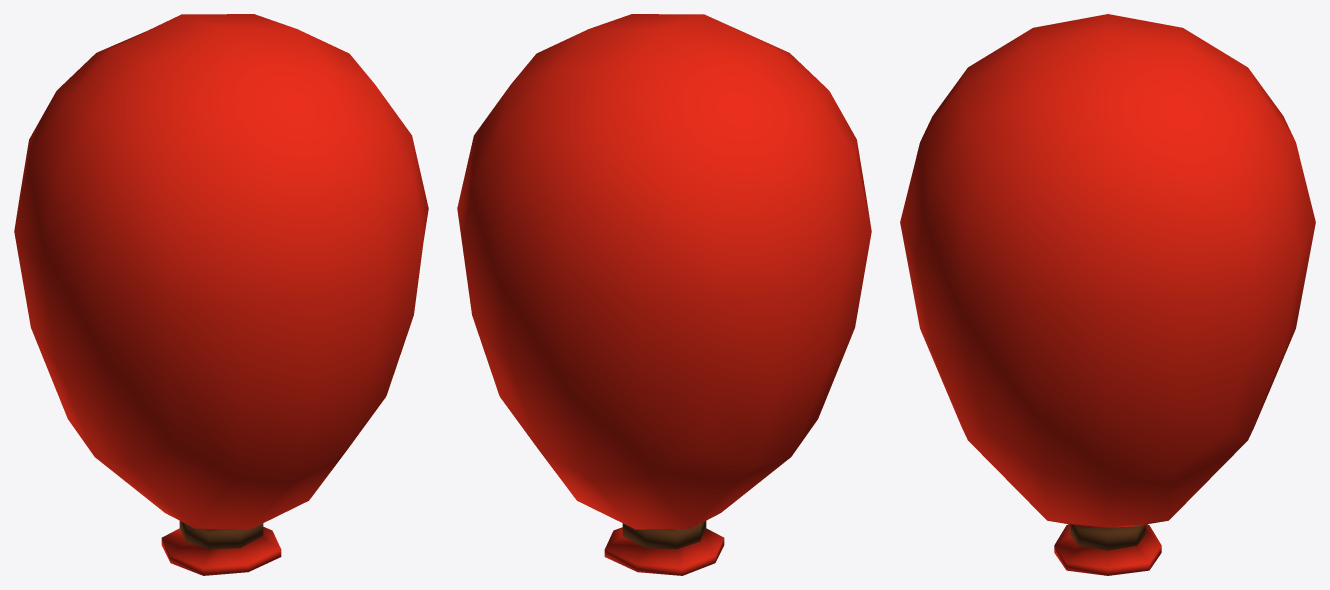
The model's file is balao.fbx.
The picture shows the model from 3 angles, left to right: view 1: azimuth 30°, elevation 25°; view 2: azimuth 150°, elevation 25°; view 3: azimuth 270°, elevation 25°; orthographic projection.
Visible parts, largest first — view 1: Balao; view 2: Balao; view 3: Balao.
Part boxes in pixels (x1=…): Balao: x1=14, y1=14, x2=428, y2=575; Balao: x1=457, y1=14, x2=871, y2=575; Balao: x1=900, y1=14, x2=1315, y2=575.
Bounding box in the file's own units: 346 × 478 × 346.
